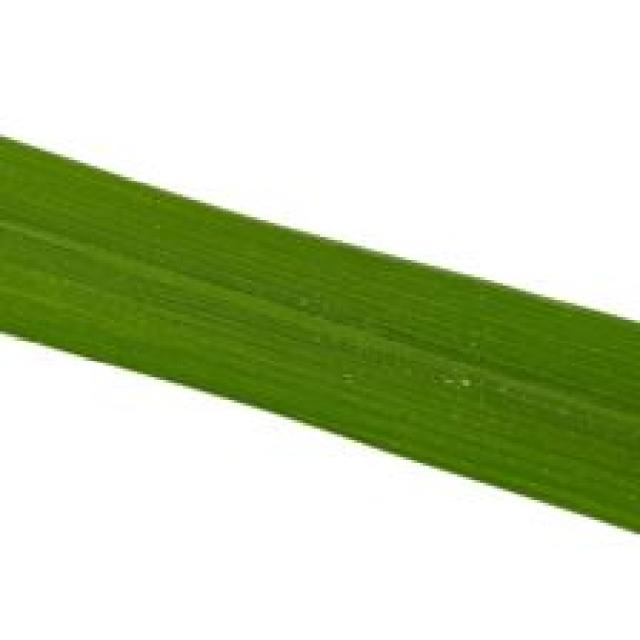Rice___Healthy_Rice_Plant: (0, 138, 637, 541)
